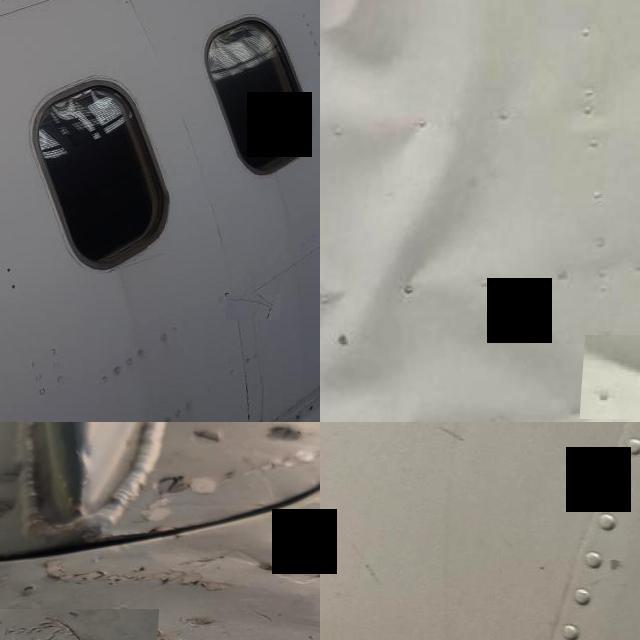Crack: (233, 294, 288, 320)
Dent: (342, 152, 490, 396), (320, 0, 416, 70), (590, 336, 640, 384)
